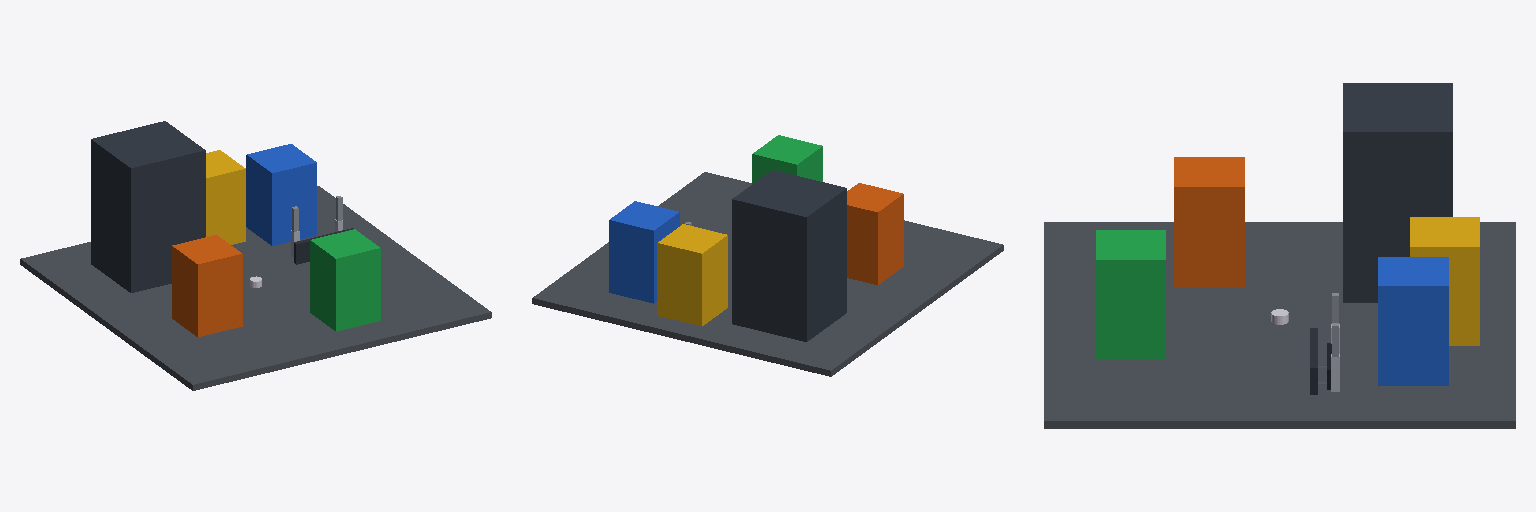
robot.urdf — ur5_with_test_tool:
<robot name="ur5_with_test_tool">
  
  
  
  <link name="world" />
  <link name="cell_floor">
    <visual>
      <origin xyz="0 0 -0.03" />
      <geometry>
        <box size="3.0 3.0 0.06" />
      </geometry>
      <material name="cell_floor_material">
        <color rgba="0.35 0.37 0.40 1" />
      </material>
    </visual>
  </link>
  <joint name="world_to_cell_floor" type="fixed">
    <parent link="world" />
    <child link="cell_floor" />
  </joint>
  <link name="station_s1_raw">
    <visual>
      <origin xyz="0 0 0.35" />
      <geometry>
        <box size="0.45 0.45 0.7" />
      </geometry>
      <material name="station_raw_material">
        <color rgba="0.20 0.45 0.85 1" />
      </material>
    </visual>
  </link>
  <joint name="world_to_station_s1_raw" type="fixed">
    <parent link="world" />
    <child link="station_s1_raw" />
    <origin rpy="0 0 0" xyz="0.75 0.85 0" />
  </joint>
  <link name="station_s2_staging">
    <visual>
      <origin xyz="0 0 0.35" />
      <geometry>
        <box size="0.45 0.45 0.7" />
      </geometry>
      <material name="station_staging_material">
        <color rgba="0.90 0.70 0.12 1" />
      </material>
    </visual>
  </link>
  <joint name="world_to_station_s2_staging" type="fixed">
    <parent link="world" />
    <child link="station_s2_staging" />
    <origin rpy="0 0 0" xyz="0.15 1.05 0" />
  </joint>
  <link name="station_s3_machine">
    <visual>
      <origin xyz="0 0 0.6" />
      <geometry>
        <box size="0.75 0.7 1.2" />
      </geometry>
      <material name="station_machine_material">
        <color rgba="0.25 0.28 0.32 1" />
      </material>
    </visual>
  </link>
  <joint name="world_to_station_s3_machine" type="fixed">
    <parent link="world" />
    <child link="station_s3_machine" />
    <origin rpy="0 0 0" xyz="-0.65 0.75 0" />
  </joint>
  <link name="station_s4_output">
    <visual>
      <origin xyz="0 0 0.35" />
      <geometry>
        <box size="0.45 0.45 0.7" />
      </geometry>
      <material name="station_output_material">
        <color rgba="0.85 0.42 0.12 1" />
      </material>
    </visual>
  </link>
  <joint name="world_to_station_s4_output" type="fixed">
    <parent link="world" />
    <child link="station_s4_output" />
    <origin rpy="0 0 0" xyz="-0.75 -0.45 0" />
  </joint>
  <link name="station_s5_finished">
    <visual>
      <origin xyz="0 0 0.35" />
      <geometry>
        <box size="0.45 0.45 0.7" />
      </geometry>
      <material name="station_finished_material">
        <color rgba="0.18 0.70 0.35 1" />
      </material>
    </visual>
  </link>
  <joint name="world_to_station_s5_finished" type="fixed">
    <parent link="world" />
    <child link="station_s5_finished" />
    <origin rpy="0 0 0" xyz="0.35 -0.95 0" />
  </joint>
  
  <link name="workpiece_x_carriage" />
  <joint name="workpiece_x_joint" type="prismatic">
    <parent link="world" />
    <child link="workpiece_x_carriage" />
    <axis xyz="1 0 0" />
    <limit effort="1" lower="-1.5" upper="1.5" velocity="2" />
  </joint>
  <link name="workpiece_y_carriage" />
  <joint name="workpiece_y_joint" type="prismatic">
    <parent link="workpiece_x_carriage" />
    <child link="workpiece_y_carriage" />
    <axis xyz="0 1 0" />
    <limit effort="1" lower="-1.5" upper="1.5" velocity="2" />
  </joint>
  <link name="workpiece">
    <visual>
      <geometry>
        <cylinder length="0.12" radius="0.055" />
      </geometry>
      <material name="workpiece_material">
        <color rgba="0.85 0.85 0.88 1" />
      </material>
    </visual>
    <collision>
      <geometry>
        <cylinder length="0.12" radius="0.055" />
      </geometry>
    </collision>
  </link>
  <joint name="workpiece_z_joint" type="prismatic">
    <parent link="workpiece_y_carriage" />
    <child link="workpiece" />
    <axis xyz="0 0 1" />
    <limit effort="1" lower="0" upper="1.5" velocity="2" />
  </joint>
  <link name="base_link" />
  <link name="base_link_inertia">
    <visual>
      <origin rpy="0 0 3.141592653589793" xyz="0 0 0" />
      <geometry>
        <mesh filename="package://ur_description/meshes/ur5/visual/base.dae" />
      </geometry>
    </visual>
    <collision>
      <origin rpy="0 0 3.141592653589793" xyz="0 0 0" />
      <geometry>
        <mesh filename="package://ur_description/meshes/ur5/collision/base.stl" />
      </geometry>
    </collision>
    <inertial>
      <mass value="4.0" />
      <origin rpy="0 0 0" xyz="0 0 0" />
      <inertia ixx="0.00443333156" ixy="0.0" ixz="0.0" iyy="0.00443333156" iyz="0.0" izz="0.0072" />
    </inertial>
  </link>
  <link name="shoulder_link">
    <visual>
      <origin rpy="0 0 3.141592653589793" xyz="0 0 0" />
      <geometry>
        <mesh filename="package://ur_description/meshes/ur5/visual/shoulder.dae" />
      </geometry>
    </visual>
    <collision>
      <origin rpy="0 0 3.141592653589793" xyz="0 0 0" />
      <geometry>
        <mesh filename="package://ur_description/meshes/ur5/collision/shoulder.stl" />
      </geometry>
    </collision>
    <inertial>
      <mass value="3.7" />
      <origin rpy="0 0 0" xyz="0.0 -0.00193 -0.02561" />
      <inertia ixx="0.014972358333333331" ixy="0" ixz="0" iyy="0.014972358333333331" iyz="0" izz="0.01040625" />
    </inertial>
  </link>
  <link name="upper_arm_link">
    <visual>
      <origin rpy="1.5707963267948966 0 -1.5707963267948966" xyz="0 0 0.13585" />
      <geometry>
        <mesh filename="package://ur_description/meshes/ur5/visual/upperarm.dae" />
      </geometry>
    </visual>
    <collision>
      <origin rpy="1.5707963267948966 0 -1.5707963267948966" xyz="0 0 0.13585" />
      <geometry>
        <mesh filename="package://ur_description/meshes/ur5/collision/upperarm.stl" />
      </geometry>
    </collision>
    <inertial>
      <mass value="8.393" />
      <origin rpy="0 1.570796326794897 0" xyz="-0.2125 0.0 0.11336" />
      <inertia ixx="0.13388583541666665" ixy="0" ixz="0" iyy="0.13388583541666665" iyz="0" izz="0.0151074" />
    </inertial>
  </link>
  <link name="forearm_link">
    <visual>
      <origin rpy="1.5707963267948966 0 -1.5707963267948966" xyz="0 0 0.0165" />
      <geometry>
        <mesh filename="package://ur_description/meshes/ur5/visual/forearm.dae" />
      </geometry>
    </visual>
    <collision>
      <origin rpy="1.5707963267948966 0 -1.5707963267948966" xyz="0 0 0.0165" />
      <geometry>
        <mesh filename="package://ur_description/meshes/ur5/collision/forearm.stl" />
      </geometry>
    </collision>
    <inertial>
      <mass value="2.33" />
      <origin rpy="0 1.570796326794897 0" xyz="-0.24225 0.0 0.0265" />
      <inertia ixx="0.031216803515624995" ixy="0" ixz="0" iyy="0.031216803515624995" iyz="0" izz="0.004095" />
    </inertial>
  </link>
  <link name="wrist_1_link">
    <visual>
      <origin rpy="1.5707963267948966 0 0" xyz="0 0 -0.093" />
      <geometry>
        <mesh filename="package://ur_description/meshes/ur5/visual/wrist1.dae" />
      </geometry>
    </visual>
    <collision>
      <origin rpy="1.5707963267948966 0 0" xyz="0 0 -0.093" />
      <geometry>
        <mesh filename="package://ur_description/meshes/ur5/collision/wrist1.stl" />
      </geometry>
    </collision>
    <inertial>
      <mass value="1.219" />
      <origin rpy="0 0 0" xyz="0.0 -0.01634 -0.0018" />
      <inertia ixx="0.002013889583333333" ixy="0" ixz="0" iyy="0.002013889583333333" iyz="0" izz="0.0021942" />
    </inertial>
  </link>
  <link name="wrist_2_link">
    <visual>
      <origin rpy="0 0 0" xyz="0 0 -0.095" />
      <geometry>
        <mesh filename="package://ur_description/meshes/ur5/visual/wrist2.dae" />
      </geometry>
    </visual>
    <collision>
      <origin rpy="0 0 0" xyz="0 0 -0.095" />
      <geometry>
        <mesh filename="package://ur_description/meshes/ur5/collision/wrist2.stl" />
      </geometry>
    </collision>
    <inertial>
      <mass value="1.219" />
      <origin rpy="0 0 0" xyz="0.0 0.01634 -0.0018" />
      <inertia ixx="0.0018310395833333333" ixy="0" ixz="0" iyy="0.0018310395833333333" iyz="0" izz="0.0021942" />
    </inertial>
  </link>
  <link name="wrist_3_link">
    <visual>
      <origin rpy="1.5707963267948966 0 0" xyz="0 0 -0.0818" />
      <geometry>
        <mesh filename="package://ur_description/meshes/ur5/visual/wrist3.dae" />
      </geometry>
    </visual>
    <collision>
      <origin rpy="1.5707963267948966 0 0" xyz="0 0 -0.0818" />
      <geometry>
        <mesh filename="package://ur_description/meshes/ur5/collision/wrist3.stl" />
      </geometry>
    </collision>
    <inertial>
      <mass value="0.1879" />
      <origin rpy="0 0 0" xyz="0.0 0.0 -0.001159" />
      <inertia ixx="8.062475833333332e-05" ixy="0" ixz="0" iyy="8.062475833333332e-05" iyz="0" izz="0.0001321171875" />
    </inertial>
  </link>
  
  <joint name="base_joint" type="fixed">
    <origin rpy="0 0 0" xyz="0 0 0" />
    <parent link="world" />
    <child link="base_link" />
  </joint>
  
  <joint name="base_link-base_link_inertia" type="fixed">
    <parent link="base_link" />
    <child link="base_link_inertia" />
    
    <origin rpy="0 0 3.141592653589793" xyz="0 0 0" />
  </joint>
  <joint name="shoulder_pan_joint" type="revolute">
    <parent link="base_link_inertia" />
    <child link="shoulder_link" />
    <origin rpy="0 0 0" xyz="0 0 0.089159" />
    <axis xyz="0 0 1" />
    <limit effort="150.0" lower="-6.283185307179586" upper="6.283185307179586" velocity="3.141592653589793" />
    <dynamics damping="0" friction="0" />
  </joint>
  <joint name="shoulder_lift_joint" type="revolute">
    <parent link="shoulder_link" />
    <child link="upper_arm_link" />
    <origin rpy="1.570796327 0 0" xyz="0 0 0" />
    <axis xyz="0 0 1" />
    <limit effort="150.0" lower="-6.283185307179586" upper="6.283185307179586" velocity="3.141592653589793" />
    <dynamics damping="0" friction="0" />
  </joint>
  <joint name="elbow_joint" type="revolute">
    <parent link="upper_arm_link" />
    <child link="forearm_link" />
    <origin rpy="0 0 0" xyz="-0.425 0 0" />
    <axis xyz="0 0 1" />
    <limit effort="150.0" lower="-3.141592653589793" upper="3.141592653589793" velocity="3.141592653589793" />
    <dynamics damping="0" friction="0" />
  </joint>
  <joint name="wrist_1_joint" type="revolute">
    <parent link="forearm_link" />
    <child link="wrist_1_link" />
    <origin rpy="0 0 0" xyz="-0.39225 0 0.10915" />
    <axis xyz="0 0 1" />
    <limit effort="28.0" lower="-6.283185307179586" upper="6.283185307179586" velocity="3.141592653589793" />
    <dynamics damping="0" friction="0" />
  </joint>
  <joint name="wrist_2_joint" type="revolute">
    <parent link="wrist_1_link" />
    <child link="wrist_2_link" />
    <origin rpy="1.570796327 0 0" xyz="0 -0.09465 -1.941303950897609e-11" />
    <axis xyz="0 0 1" />
    <limit effort="28.0" lower="-6.283185307179586" upper="6.283185307179586" velocity="3.141592653589793" />
    <dynamics damping="0" friction="0" />
  </joint>
  <joint name="wrist_3_joint" type="revolute">
    <parent link="wrist_2_link" />
    <child link="wrist_3_link" />
    <origin rpy="1.570796326589793 3.141592653589793 3.141592653589793" xyz="0 0.0823 -1.688001216681175e-11" />
    <axis xyz="0 0 1" />
    <limit effort="28.0" lower="-6.283185307179586" upper="6.283185307179586" velocity="3.141592653589793" />
    <dynamics damping="0" friction="0" />
  </joint>
  <link name="ft_frame" />
  <joint name="wrist_3_link-ft_frame" type="fixed">
    <parent link="wrist_3_link" />
    <child link="ft_frame" />
    <origin rpy="3.141592653589793 0 0" xyz="0 0 0" />
  </joint>
  
  <link name="base" />
  <joint name="base_link-base_fixed_joint" type="fixed">
    
    <origin rpy="0 0 3.141592653589793" xyz="0 0 0" />
    <parent link="base_link" />
    <child link="base" />
  </joint>
  
  <link name="flange" />
  <joint name="wrist_3-flange" type="fixed">
    <parent link="wrist_3_link" />
    <child link="flange" />
    <origin rpy="0 -1.5707963267948966 -1.5707963267948966" xyz="0 0 0" />
  </joint>
  
  <link name="tool0" />
  <joint name="flange-tool0" type="fixed">
    
    <origin rpy="1.5707963267948966 0 1.5707963267948966" xyz="0 0 0" />
    <parent link="flange" />
    <child link="tool0" />
  </joint>
  <link name="carrier_flange">
    <visual>
      <origin rpy="0 0 0" xyz="0 0 0.025" />
      <geometry>
        <box size="0.6 0.4 0.05" />
      </geometry>
      <material name="carrier_flange_material">
        <color rgba="0.22 0.24 0.28 1.0" />
      </material>
    </visual>
    <collision>
      <origin rpy="0 0 0" xyz="0 0 0.025" />
      <geometry>
        <box size="0.6 0.4 0.05" />
      </geometry>
    </collision>
  </link>
  <joint name="tool0_to_carrier_flange" type="fixed">
    <parent link="tool0" />
    <child link="carrier_flange" />
    <origin rpy="0 0 0" xyz="0 0 0" />
  </joint>
  
  <link name="carrier_flange_mount_left">
    <visual>
      <origin rpy="0 0 0" xyz="0 0 0.03" />
      <geometry>
        <cylinder length="0.06" radius="0.018" />
      </geometry>
      <material name="mount_material_left">
        <color rgba="0.35 0.37 0.42 1" />
      </material>
    </visual>
  </link>
  <joint name="carrier_flange_mount_left_joint" type="fixed">
    <parent link="carrier_flange" />
    <child link="carrier_flange_mount_left" />
    <origin rpy="0 0 0" xyz="-0.125 0 0.05" />
  </joint>
  <link name="carrier_flange_mount_right">
    <visual>
      <origin rpy="0 0 0" xyz="0 0 0.03" />
      <geometry>
        <cylinder length="0.06" radius="0.018" />
      </geometry>
      <material name="mount_material_right">
        <color rgba="0.35 0.37 0.42 1" />
      </material>
    </visual>
  </link>
  <joint name="carrier_flange_mount_right_joint" type="fixed">
    <parent link="carrier_flange" />
    <child link="carrier_flange_mount_right" />
    <origin rpy="0 0 0" xyz="0.125 0 0.05" />
  </joint>
  <link name="carrier_flange_interface" />
  <joint name="carrier_flange_to_interface" type="fixed">
    <parent link="carrier_flange" />
    <child link="carrier_flange_interface" />
    <origin rpy="0 0.0 0" xyz="0 0 0.11" />
  </joint>
  <link name="dual_arm_base_link">
    <visual>
      <origin xyz="0 0 0.025" />
      <geometry>
        <box size="0.42 0.28 0.05" />
      </geometry>
      <material name="dual_base_material">
        <color rgba="0.16 0.18 0.22 1" />
      </material>
    </visual>
    <collision>
      <origin xyz="0 0 0.025" />
      <geometry>
        <box size="0.42 0.28 0.05" />
      </geometry>
    </collision>
  </link>
  <joint name="carrier_flange_interface_to_dual_arm_base" type="fixed">
    <parent link="carrier_flange_interface" />
    <child link="dual_arm_base_link" />
    <origin rpy="0 0 0" xyz="0 0 0" />
  </joint>
  
  <link name="left_upper_arm">
    <visual>
      <origin rpy="0 0 0" xyz="0 0.125 0" />
      <geometry>
        <box size="0.055 0.25 0.055" />
      </geometry>
      <material name="left_upper_material">
        <color rgba="0.72 0.74 0.78 1" />
      </material>
    </visual>
    <collision>
      <origin xyz="0 0.125 0" />
      <geometry>
        <box size="0.055 0.25 0.055" />
      </geometry>
    </collision>
  </link>
  <joint name="left_shoulder_joint" type="revolute">
    <parent link="dual_arm_base_link" />
    <child link="left_upper_arm" />
    <origin xyz="-0.22 0 0.05" />
    <axis xyz="0 0 1" />
    <limit effort="20" lower="-1.57" upper="1.57" velocity="2" />
  </joint>
  <link name="left_forearm">
    <visual>
      <origin xyz="0 0.11 0" />
      <geometry>
        <box size="0.045 0.22 0.045" />
      </geometry>
      <material name="left_forearm_material">
        <color rgba="0.58 0.60 0.64 1" />
      </material>
    </visual>
    <collision>
      <origin xyz="0 0.11 0" />
      <geometry>
        <box size="0.045 0.22 0.045" />
      </geometry>
    </collision>
  </link>
  <joint name="left_elbow_joint" type="revolute">
    <parent link="left_upper_arm" />
    <child link="left_forearm" />
    <origin xyz="0 0.25 0" />
    <axis xyz="1 0 0" />
    <limit effort="20" lower="-1.57" upper="1.57" velocity="2" />
  </joint>
  
  <link name="right_upper_arm">
    <visual>
      <origin xyz="0 0.125 0" />
      <geometry>
        <box size="0.055 0.25 0.055" />
      </geometry>
      <material name="right_upper_material">
        <color rgba="0.72 0.74 0.78 1" />
      </material>
    </visual>
    <collision>
      <origin xyz="0 0.125 0" />
      <geometry>
        <box size="0.055 0.25 0.055" />
      </geometry>
    </collision>
  </link>
  <joint name="right_shoulder_joint" type="revolute">
    <parent link="dual_arm_base_link" />
    <child link="right_upper_arm" />
    <origin xyz="0.22 0 0.05" />
    <axis xyz="0 0 1" />
    <limit effort="20" lower="-1.57" upper="1.57" velocity="2" />
  </joint>
  <link name="right_forearm">
    <visual>
      <origin xyz="0 0.11 0" />
      <geometry>
        <box size="0.045 0.22 0.045" />
      </geometry>
      <material name="right_forearm_material">
        <color rgba="0.58 0.60 0.64 1" />
      </material>
    </visual>
    <collision>
      <origin xyz="0 0.11 0" />
      <geometry>
        <box size="0.045 0.22 0.045" />
      </geometry>
    </collision>
  </link>
  <joint name="right_elbow_joint" type="revolute">
    <parent link="right_upper_arm" />
    <child link="right_forearm" />
    <origin xyz="0 0.25 0" />
    <axis xyz="1 0 0" />
    <limit effort="20" lower="-1.57" upper="1.57" velocity="2" />
  </joint>
<ros2_control name="CAMBOTMockUR5" type="system"><hardware><plugin>mock_components/GenericSystem</plugin></hardware><joint name="shoulder_pan_joint"><command_interface name="position" /><state_interface name="position"><param name="initial_value">0.0</param></state_interface><state_interface name="velocity" /></joint><joint name="shoulder_lift_joint"><command_interface name="position" /><state_interface name="position"><param name="initial_value">0.0</param></state_interface><state_interface name="velocity" /></joint><joint name="elbow_joint"><command_interface name="position" /><state_interface name="position"><param name="initial_value">0.0</param></state_interface><state_interface name="velocity" /></joint><joint name="wrist_1_joint"><command_interface name="position" /><state_interface name="position"><param name="initial_value">0.0</param></state_interface><state_interface name="velocity" /></joint><joint name="wrist_2_joint"><command_interface name="position" /><state_interface name="position"><param name="initial_value">0.0</param></state_interface><state_interface name="velocity" /></joint><joint name="wrist_3_joint"><command_interface name="position" /><state_interface name="position"><param name="initial_value">0.0</param></state_interface><state_interface name="velocity" /></joint></ros2_control></robot>

--- Render facts (derived) ---
The picture shows the robot from 3 angles, left to right: view 1: azimuth 30°, elevation 25°; view 2: azimuth 150°, elevation 25°; view 3: azimuth 270°, elevation 25°; orthographic projection.
Model ur5_with_test_tool with 31 links and 30 joints (10 revolute, 3 prismatic, 17 fixed), rooted at world, posed every joint at zero.
Visible links, largest first — view 1: cell_floor, station_s3_machine, station_s4_output, station_s5_finished, station_s1_raw, station_s2_staging; view 2: cell_floor, station_s3_machine, station_s2_staging, station_s4_output, station_s1_raw, station_s5_finished; view 3: cell_floor, station_s3_machine, station_s4_output, station_s1_raw, station_s5_finished, station_s2_staging, carrier_flange.
Boxes of the visible links, x1,y1,x2,y2 form: cell_floor: [20, 186, 491, 390]; station_s3_machine: [91, 121, 205, 292]; station_s4_output: [172, 235, 242, 336]; station_s5_finished: [310, 229, 380, 331]; station_s1_raw: [246, 144, 316, 245]; station_s2_staging: [206, 150, 245, 244]; cell_floor: [532, 172, 1003, 376]; station_s3_machine: [732, 170, 846, 341]; station_s2_staging: [657, 224, 727, 326]; station_s4_output: [847, 183, 903, 284]; station_s1_raw: [609, 201, 679, 303]; station_s5_finished: [752, 135, 822, 183]; cell_floor: [1044, 222, 1515, 428]; station_s3_machine: [1343, 83, 1452, 302]; station_s4_output: [1174, 157, 1244, 286]; station_s1_raw: [1378, 257, 1448, 385]; station_s5_finished: [1096, 230, 1165, 359]; station_s2_staging: [1410, 217, 1479, 345]; carrier_flange: [1310, 328, 1317, 394].
Size in the robot's own frame: 3 by 3 by 1.41 metres.
0 mesh visuals loaded from 7 distinct referenced files (none loaded); not drawn: 7 (reference not matched to a file when rendering).
